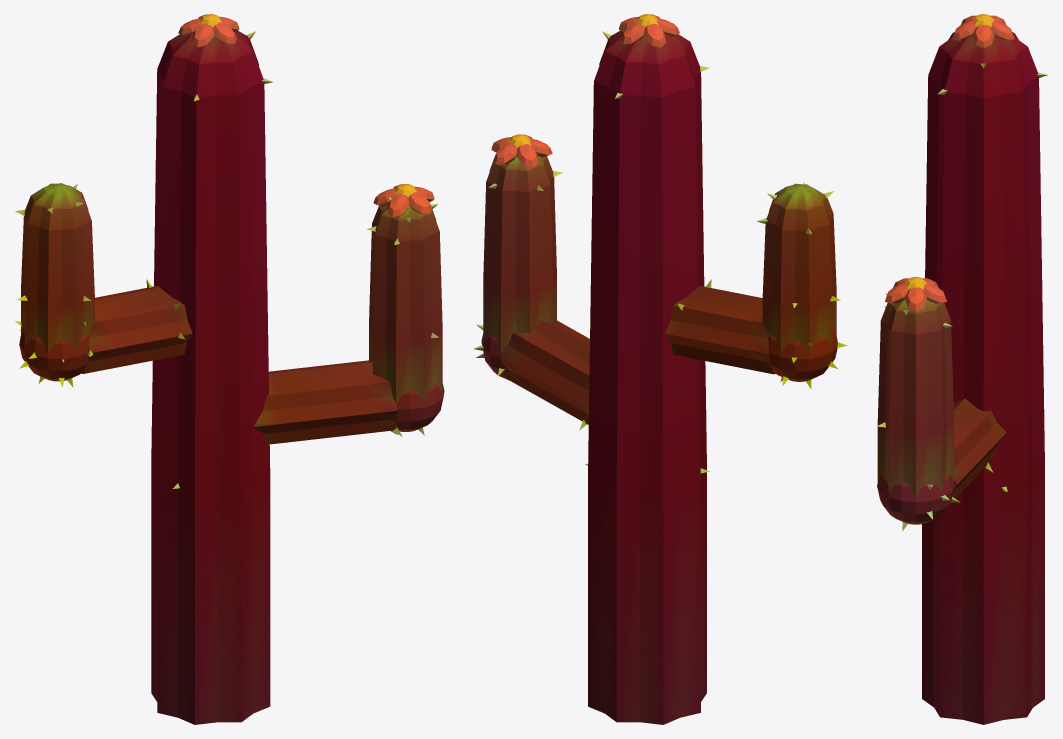
The model's file is Cactus_Saguaro_01.fbx.
The picture shows the model from 3 angles, left to right: view 1: azimuth 30°, elevation 25°; view 2: azimuth 150°, elevation 25°; view 3: azimuth 270°, elevation 25°; orthographic projection.
Parts seen in each view (by area): view 1: Cactus_Saguaro_01; view 2: Cactus_Saguaro_01; view 3: Cactus_Saguaro_01.
Part boxes in pixels (x1,y1,x2,y2): Cactus_Saguaro_01: (15,14,444,724); Cactus_Saguaro_01: (473,14,847,724); Cactus_Saguaro_01: (877,14,1047,724).
Size of the model in its own units: 2.05 by 3.45 by 0.7838.
